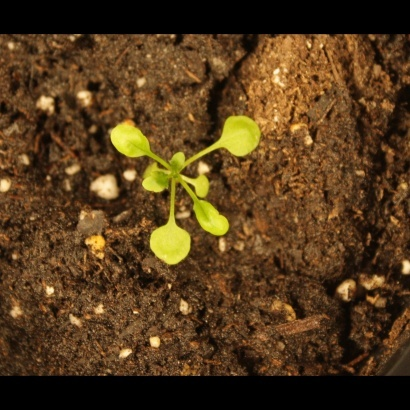leaf: (211, 110, 269, 162), (146, 219, 196, 272), (106, 118, 153, 163), (190, 195, 235, 240), (137, 170, 171, 196), (190, 173, 213, 196), (167, 149, 190, 172)
